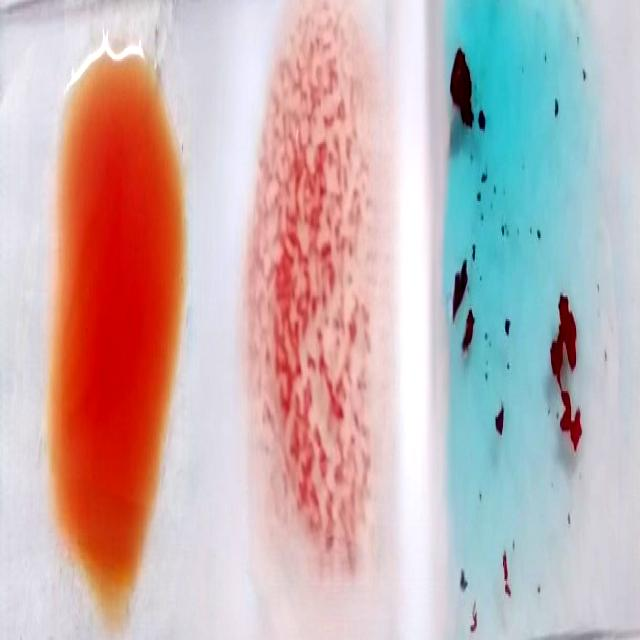A: (440, 9, 602, 640)
D: (244, 21, 372, 582)
